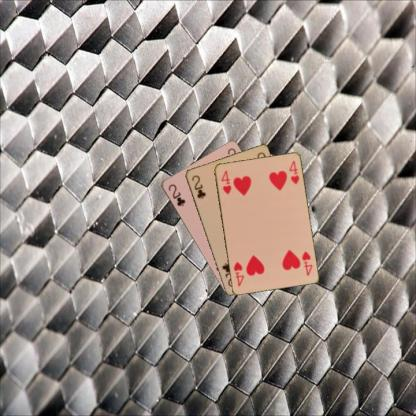2c: (165, 182, 187, 208), (189, 172, 207, 200)
4h: (299, 248, 314, 277), (218, 168, 233, 195)
